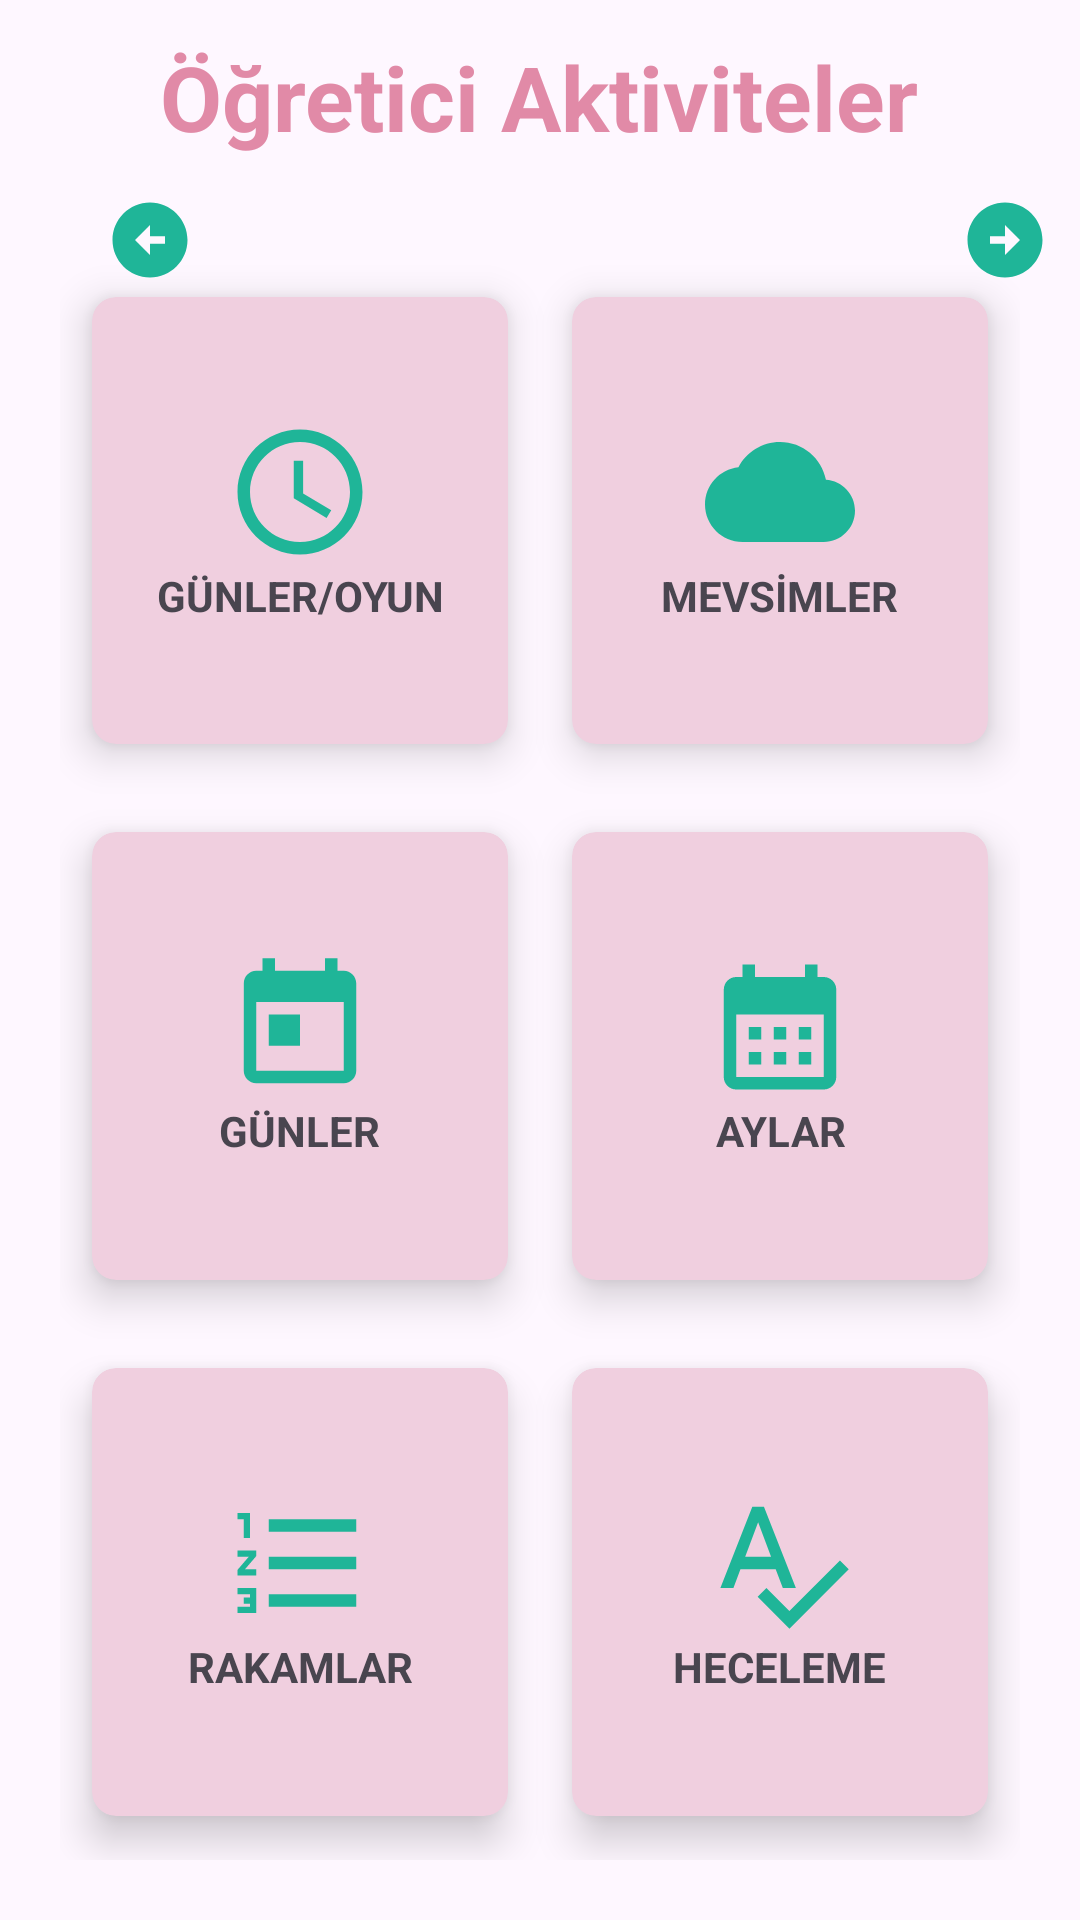

Point at icon controls on the screen. Image size 1080w x 1920h, points as point (x, y).
access time: point (300, 492)
arrow circle left: point (150, 240)
arrow circle right: point (1005, 240)
calendar month: point (780, 1027)
cloud: point (780, 492)
format list numbered: point (297, 1563)
spellcheck: point (784, 1567)
today: point (300, 1021)
